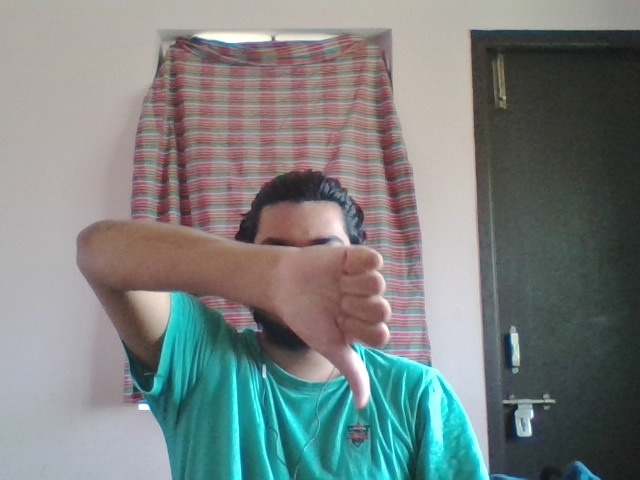ThumbsDown: (274, 244, 392, 409)
